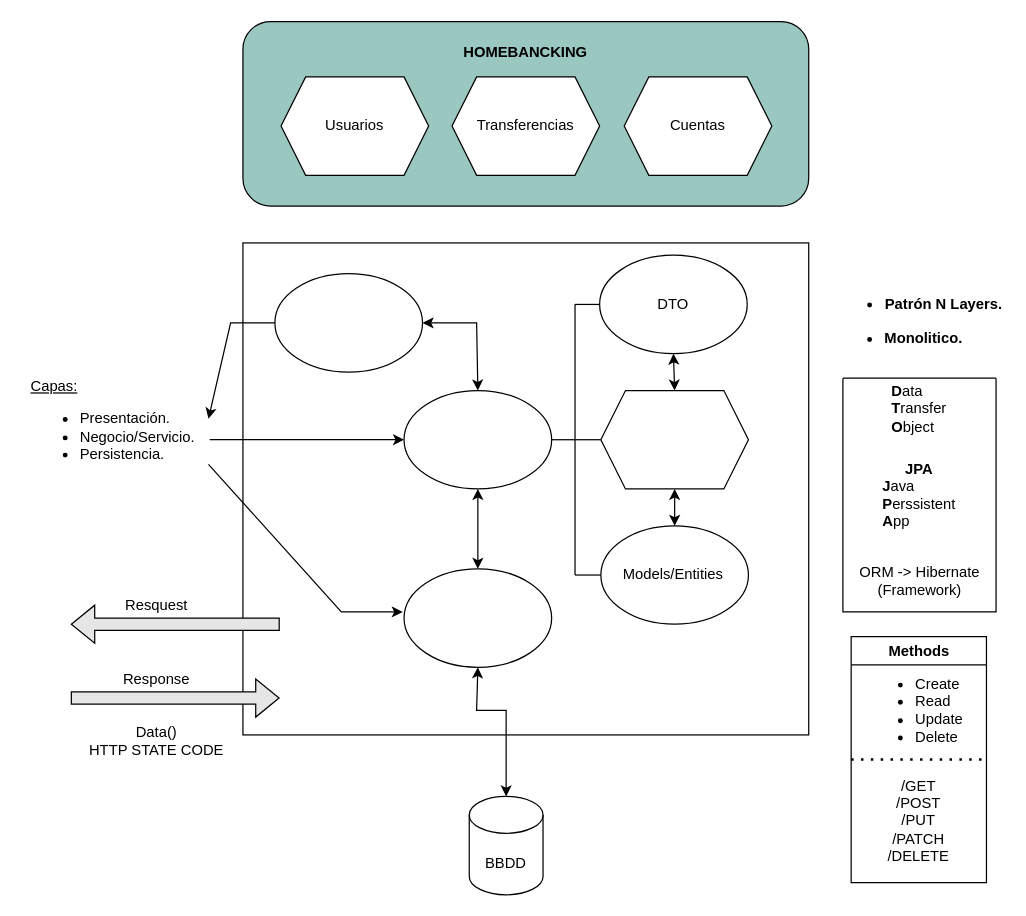
This 1026x916 diagram has some shape labels left out. Here are the shapes that lost their labels. From the top down, the centre of each, then its label:
At [348,322]: "Controller".
At [477,439]: "Services".
At [674,439]: "Mapper".
At [477,617]: "Repositories".
